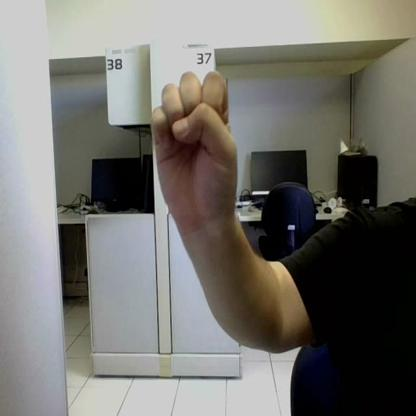S: (152, 70, 238, 212)
